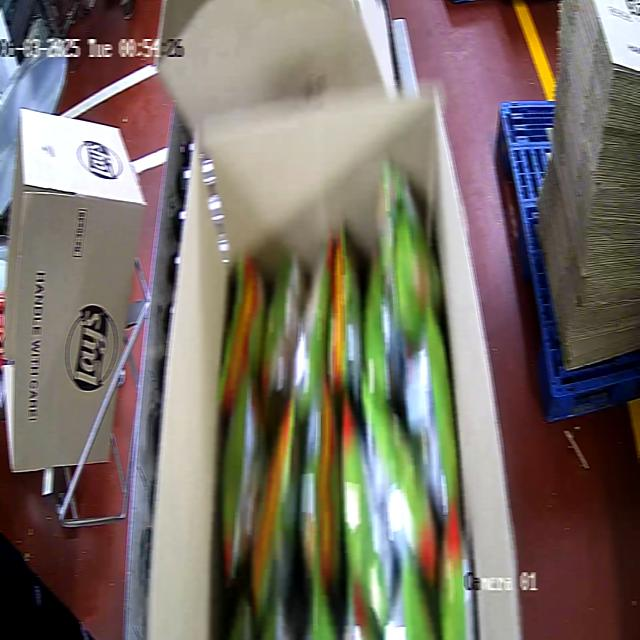YOGURT_HERB: (213, 187, 438, 640)
